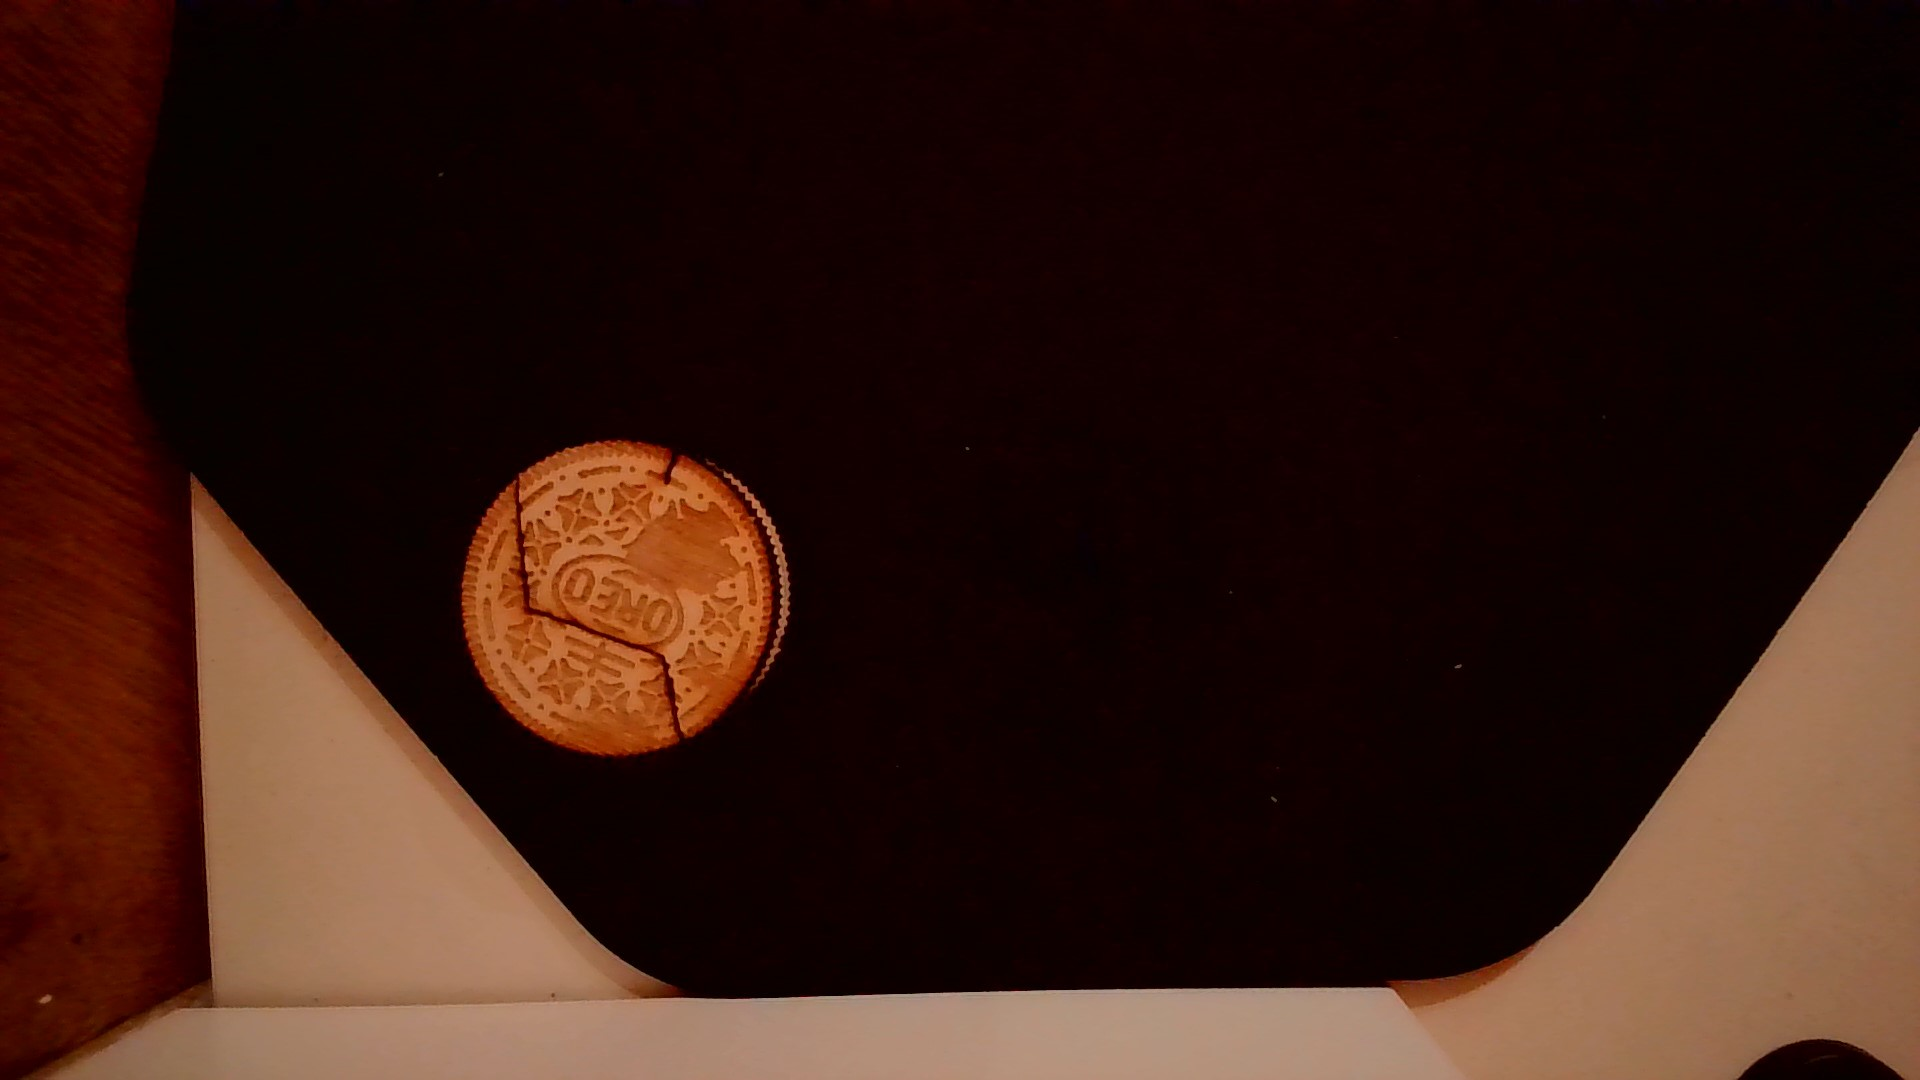Effacé: (641, 513, 735, 582), (575, 705, 653, 746), (702, 659, 745, 700)
Fissure: (506, 472, 688, 746), (655, 446, 692, 493)
Oréo: (452, 433, 800, 764)
